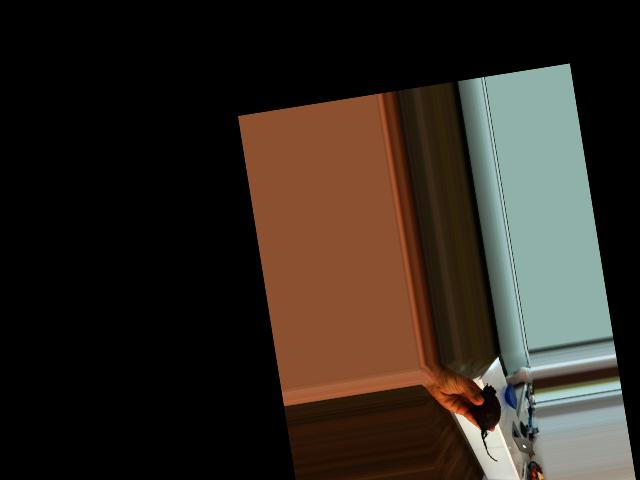beet: (469, 382, 508, 464)
